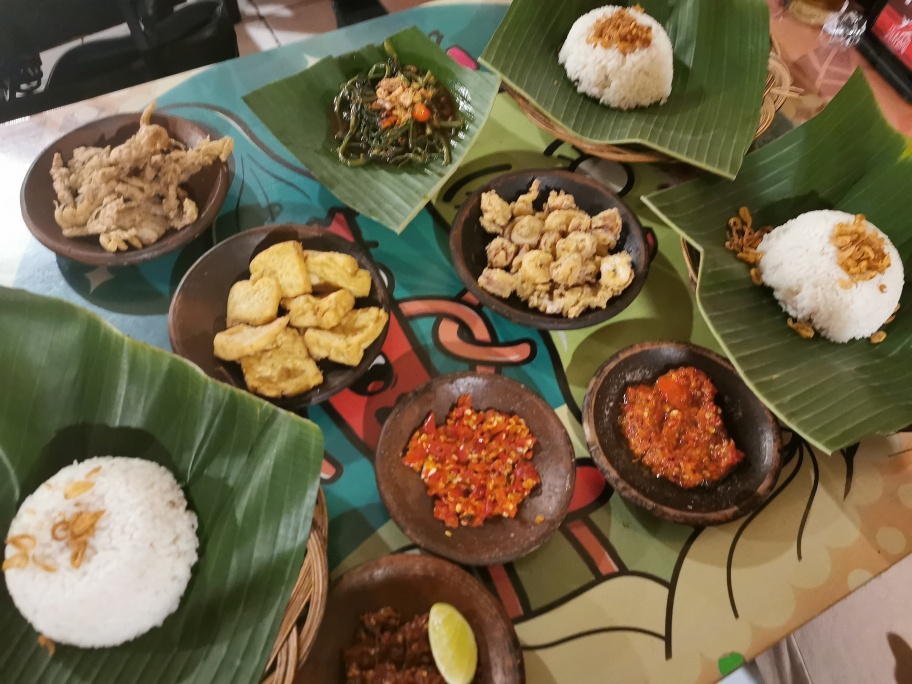nasi putih: (1, 454, 200, 651), (757, 208, 907, 347), (557, 5, 674, 109)
